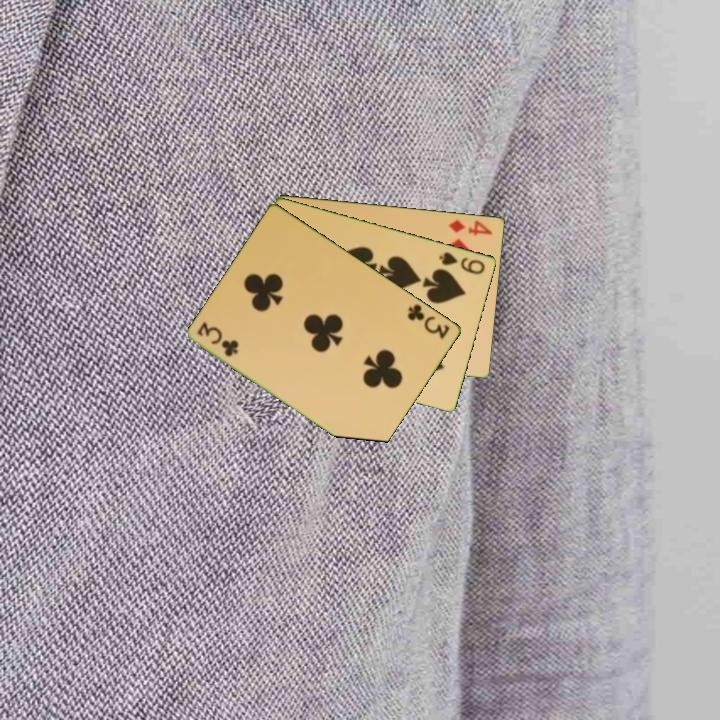3c: (404, 300, 453, 342), (194, 319, 242, 360)
4d: (446, 216, 495, 238)
9s: (436, 248, 488, 277)
